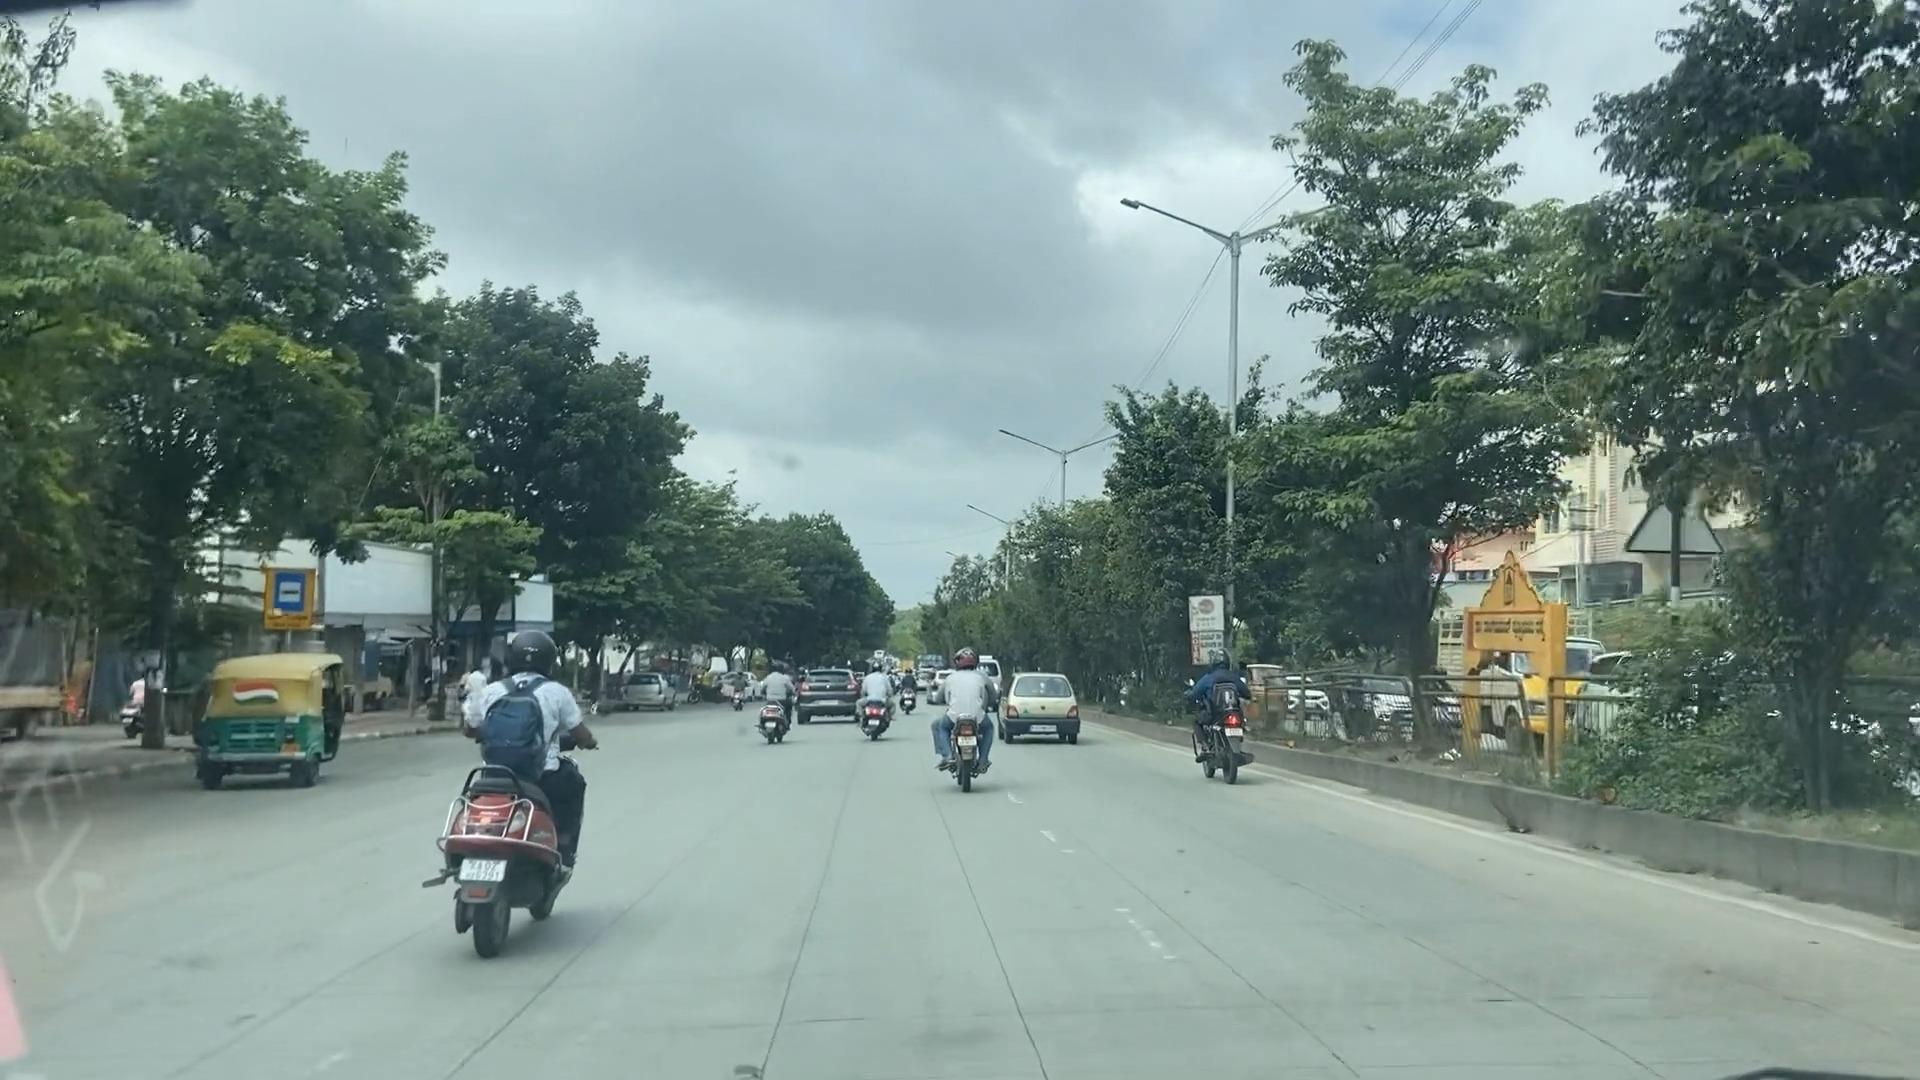LMV: (738, 634, 804, 760)
